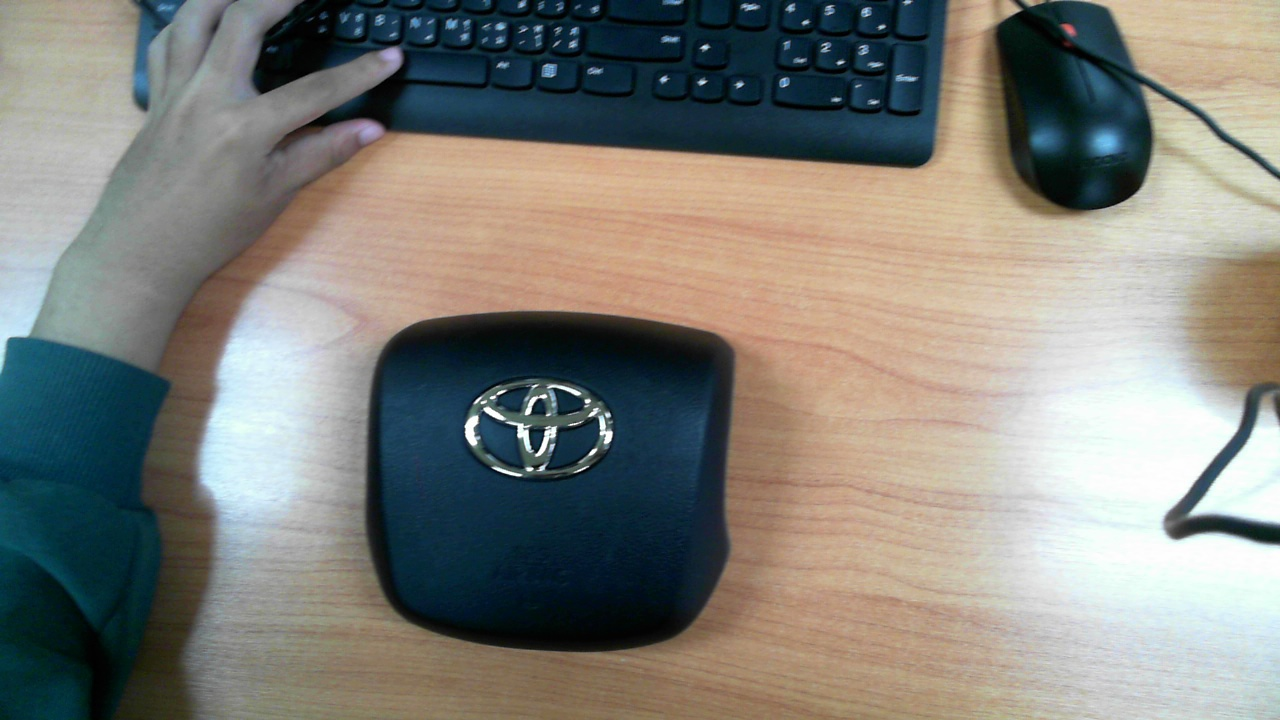Airbag: (364, 310, 736, 653)
Toyota: (464, 378, 613, 479)
